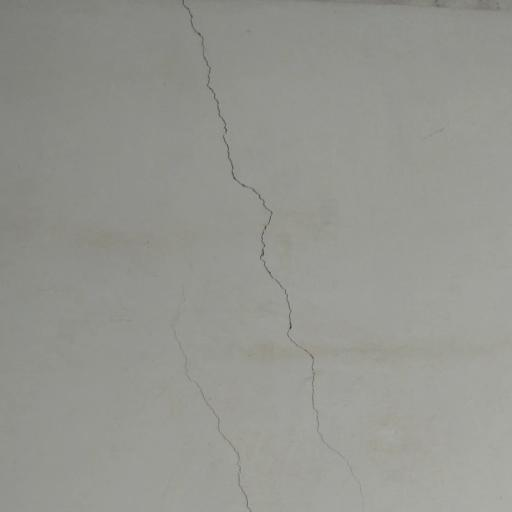major_crack: (167, 0, 382, 512)
